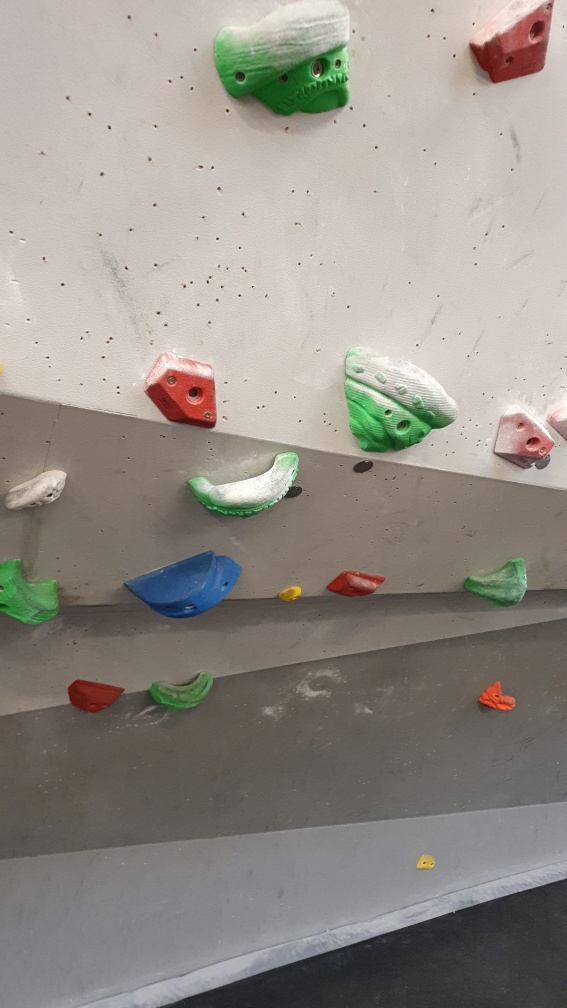Crimp: (469, 1, 564, 82), (147, 348, 222, 431), (493, 407, 553, 474), (321, 565, 395, 599)
Hand Start: (288, 481, 307, 508), (351, 458, 379, 476), (536, 452, 552, 473)
Jug: (210, 1, 347, 120), (339, 343, 464, 456), (192, 448, 302, 523), (1, 554, 67, 633), (456, 557, 532, 610), (148, 668, 220, 716)
Pinch: (123, 552, 242, 622)
